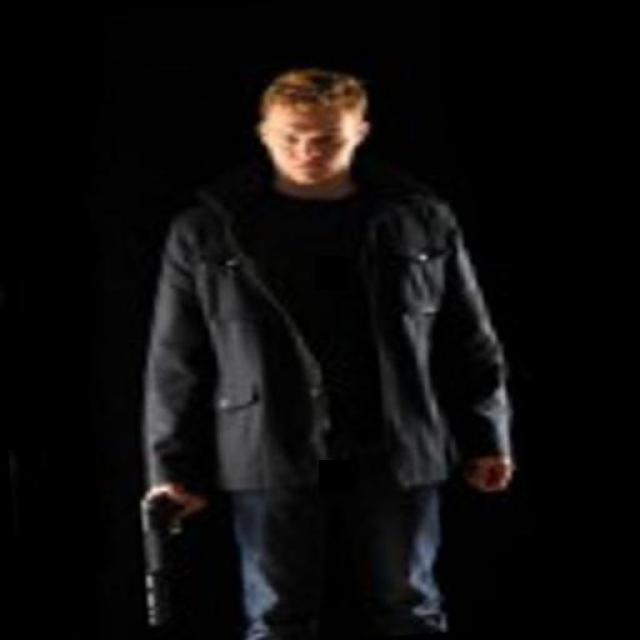gun: (122, 475, 218, 626)
